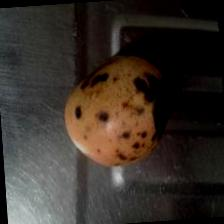Mango Overripe: (58, 47, 177, 172)
